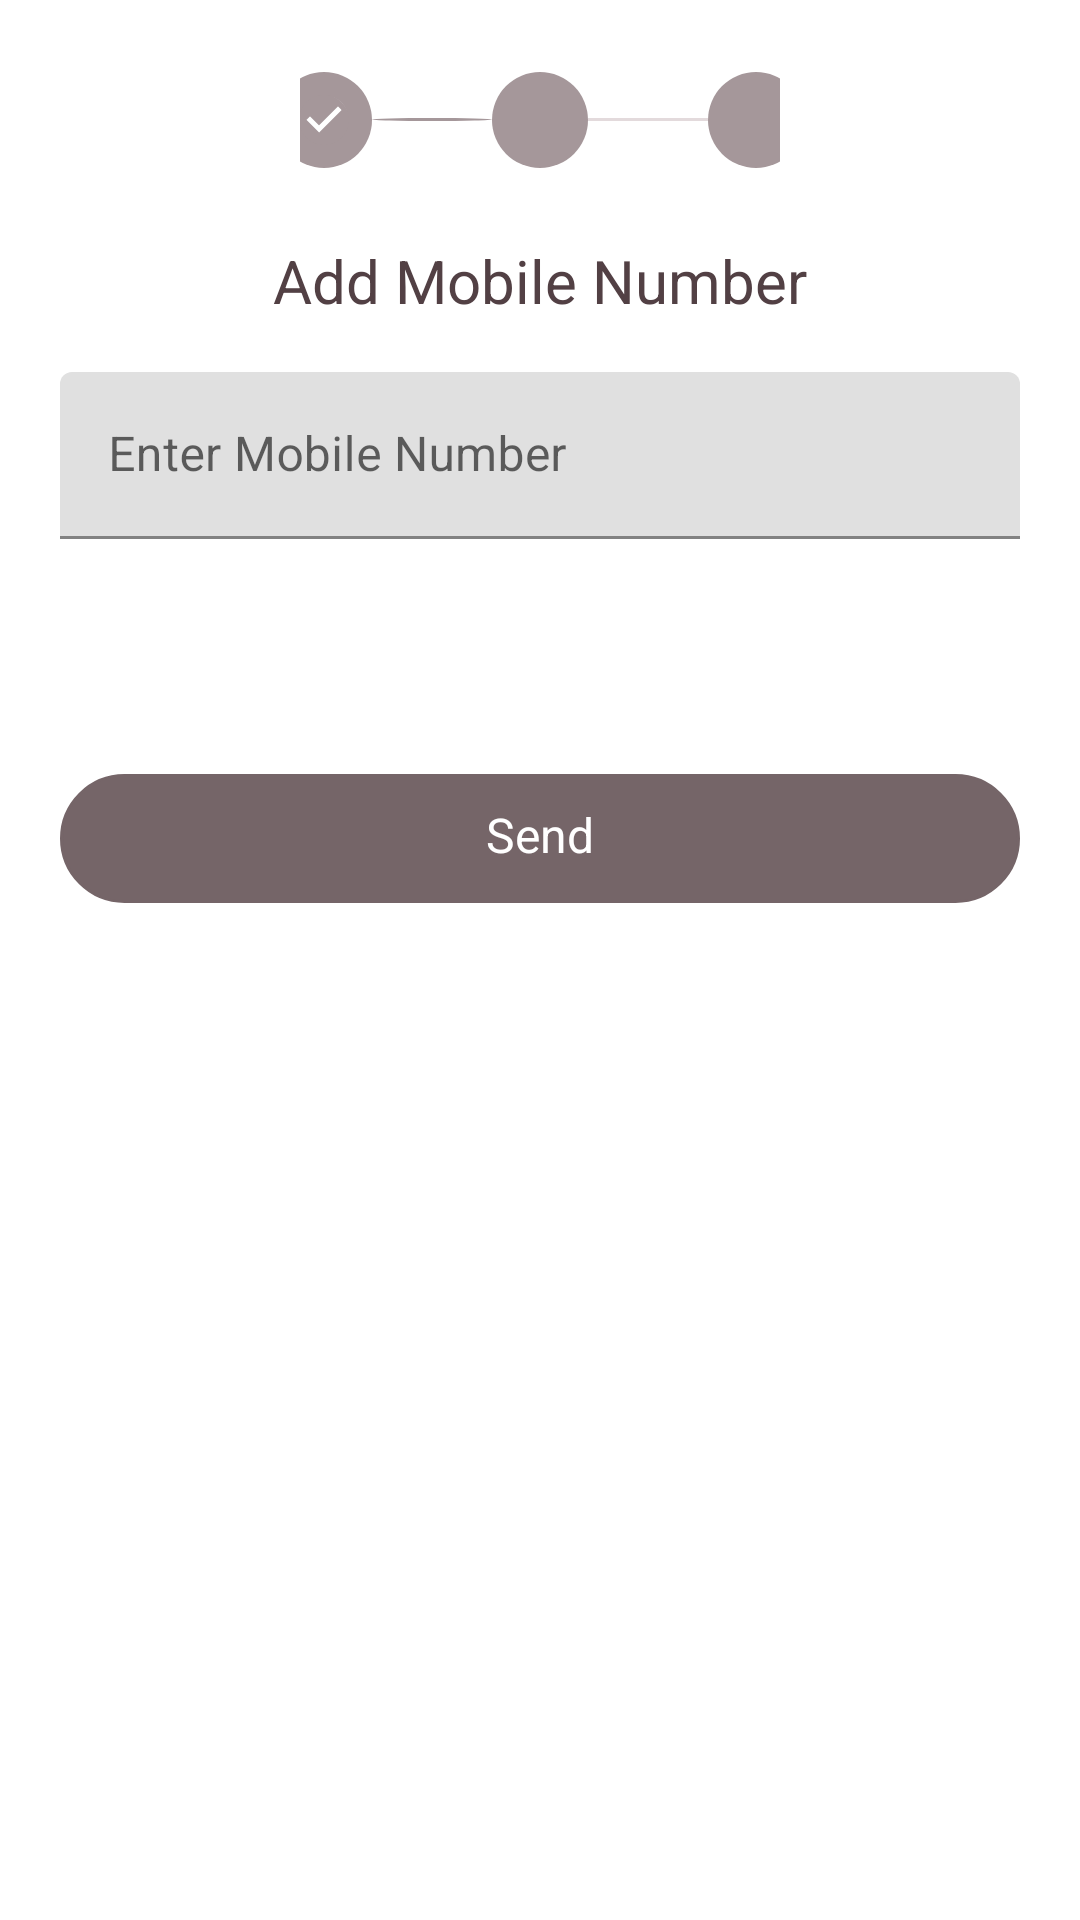

Icons on this 1080 x 1920 Android screen, each with the point to tap as point (x, y):
tick: point (324, 119)
